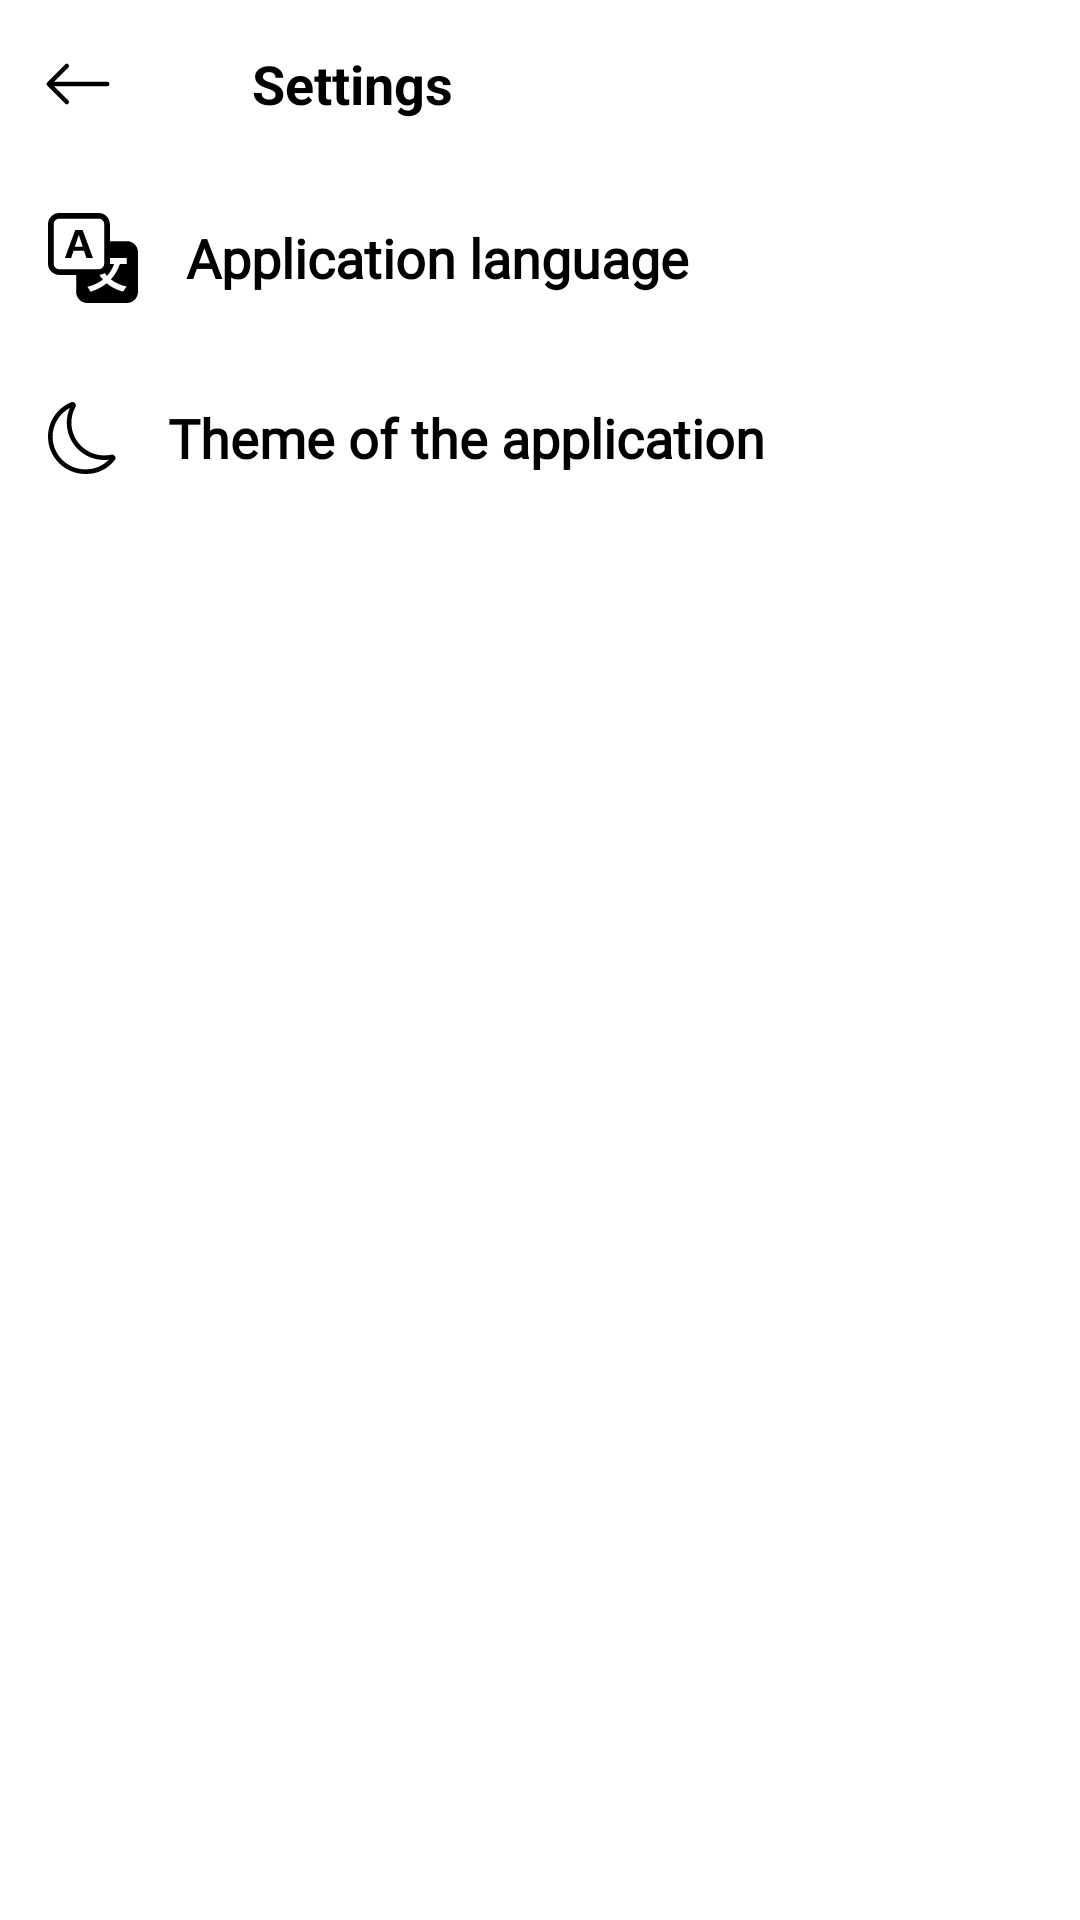

Locate icon controls on the screen. Image size 1080x1920, boxes as (x1, y1, x2, y2).
back: (46, 63, 110, 105)
moon: (48, 402, 116, 474)
translate: (48, 213, 138, 303)
